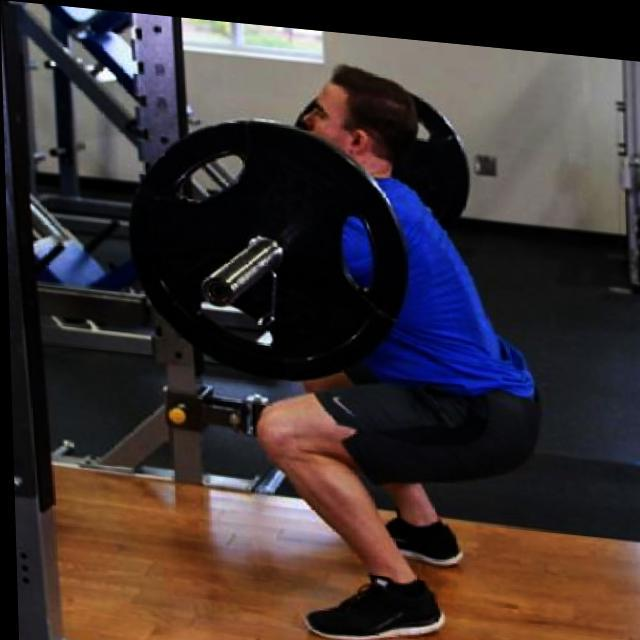barbell: (118, 102, 411, 390)
